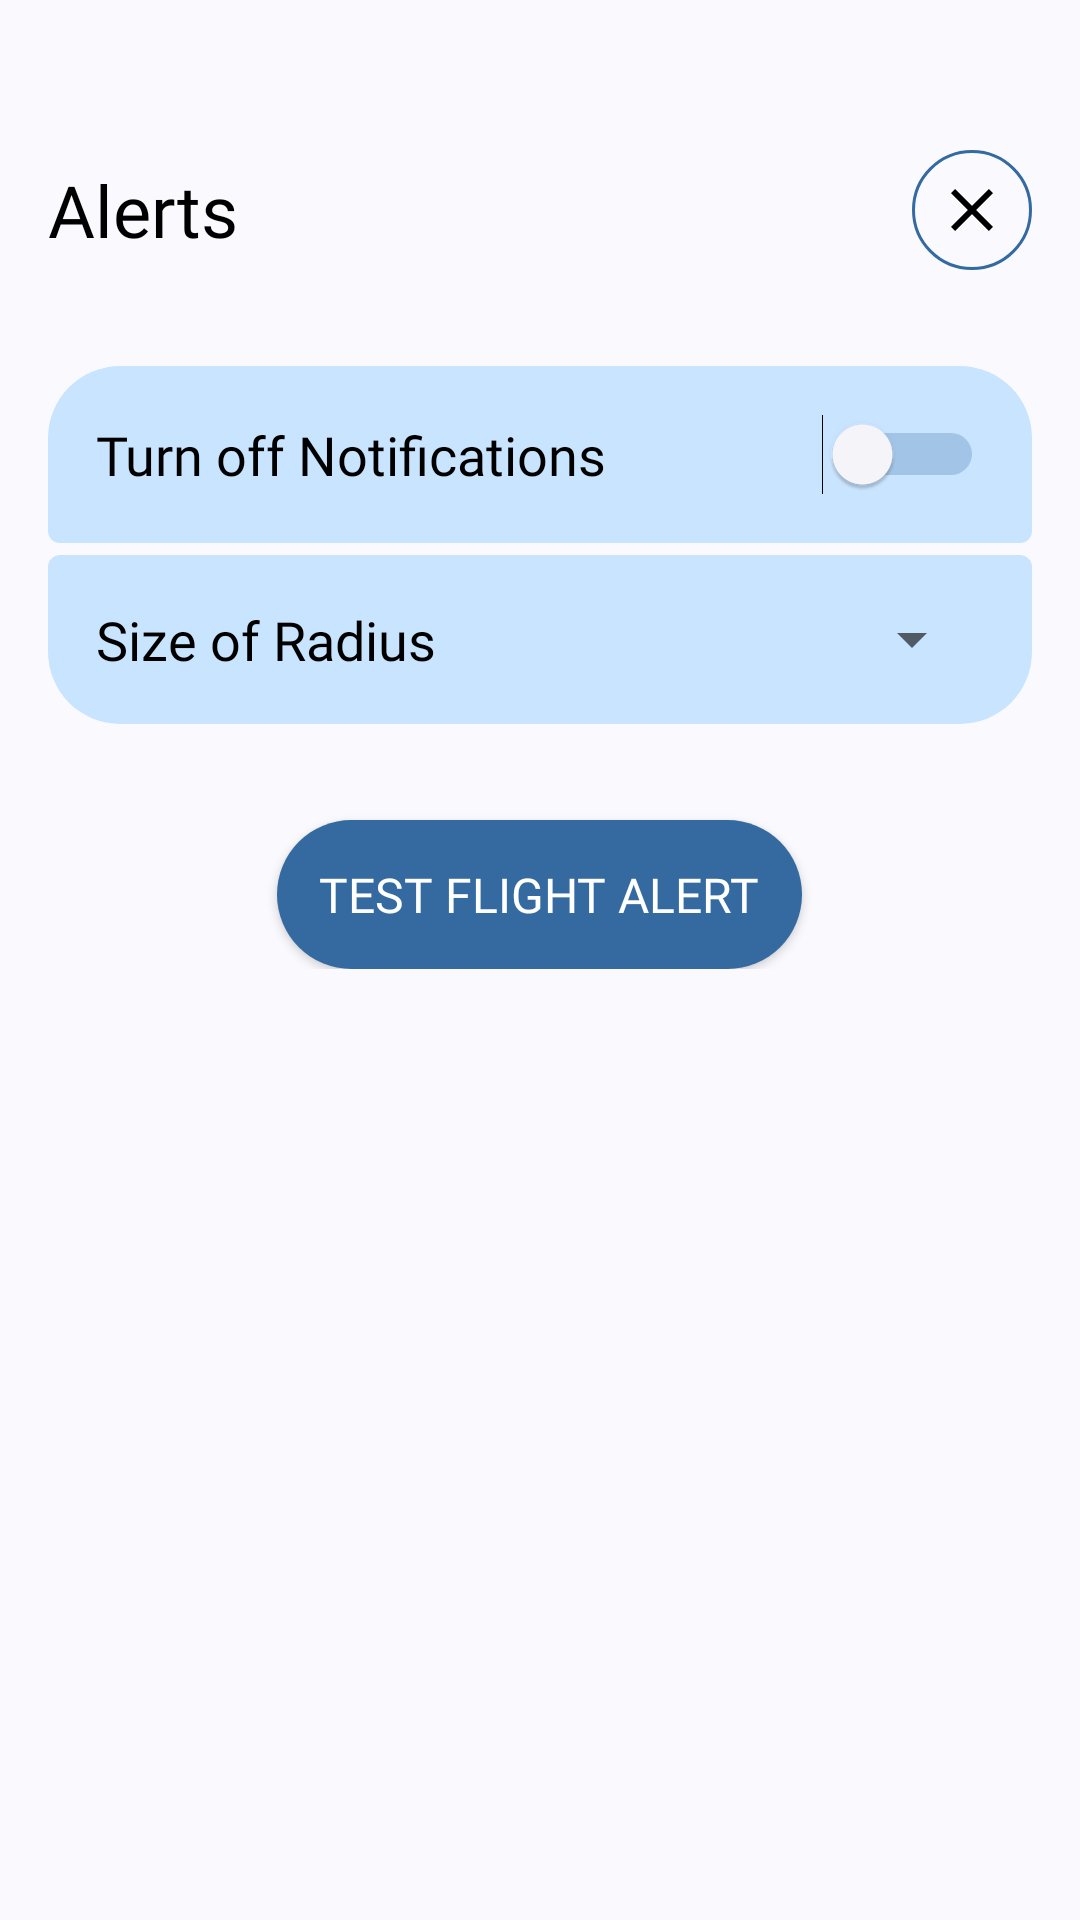

Screen size 1080w x 1920h. Icon name, then its box in pixels as (x1, y1, x2, y2):
close: (912, 150, 1032, 270)
